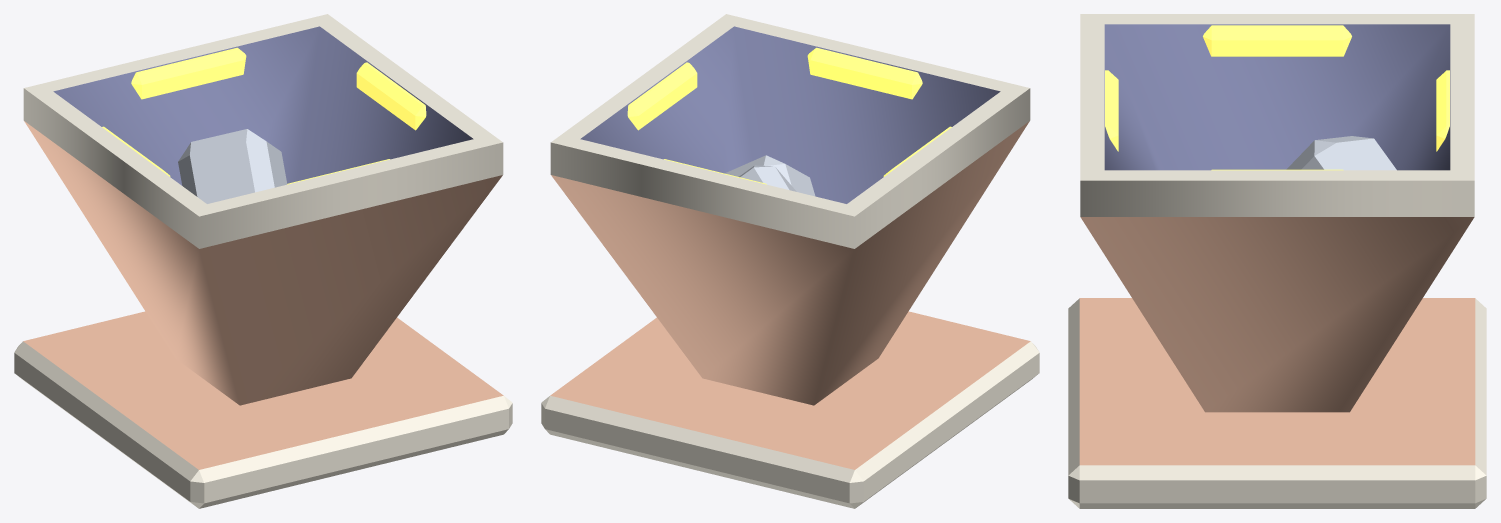
The model's file is R4X_SalvageOptimizer_LOD1.fbx.
3 renders of one model, left to right at view 1: azimuth 30°, elevation 25°; view 2: azimuth 150°, elevation 25°; view 3: azimuth 270°, elevation 25°, orthographic. The views are drawn at different scales.
Parts seen in each view (by area): view 1: R4X_SalvageOptimizer_LOD1; view 2: R4X_SalvageOptimizer_LOD1; view 3: R4X_SalvageOptimizer_LOD1.
Boxes of the visible parts, left/top/right/bottom form: R4X_SalvageOptimizer_LOD1: left=14, top=14, right=512, bottom=508; R4X_SalvageOptimizer_LOD1: left=541, top=14, right=1039, bottom=508; R4X_SalvageOptimizer_LOD1: left=1068, top=14, right=1486, bottom=508.
Size of the model in its own units: 0.52 by 0.45 by 0.52.
